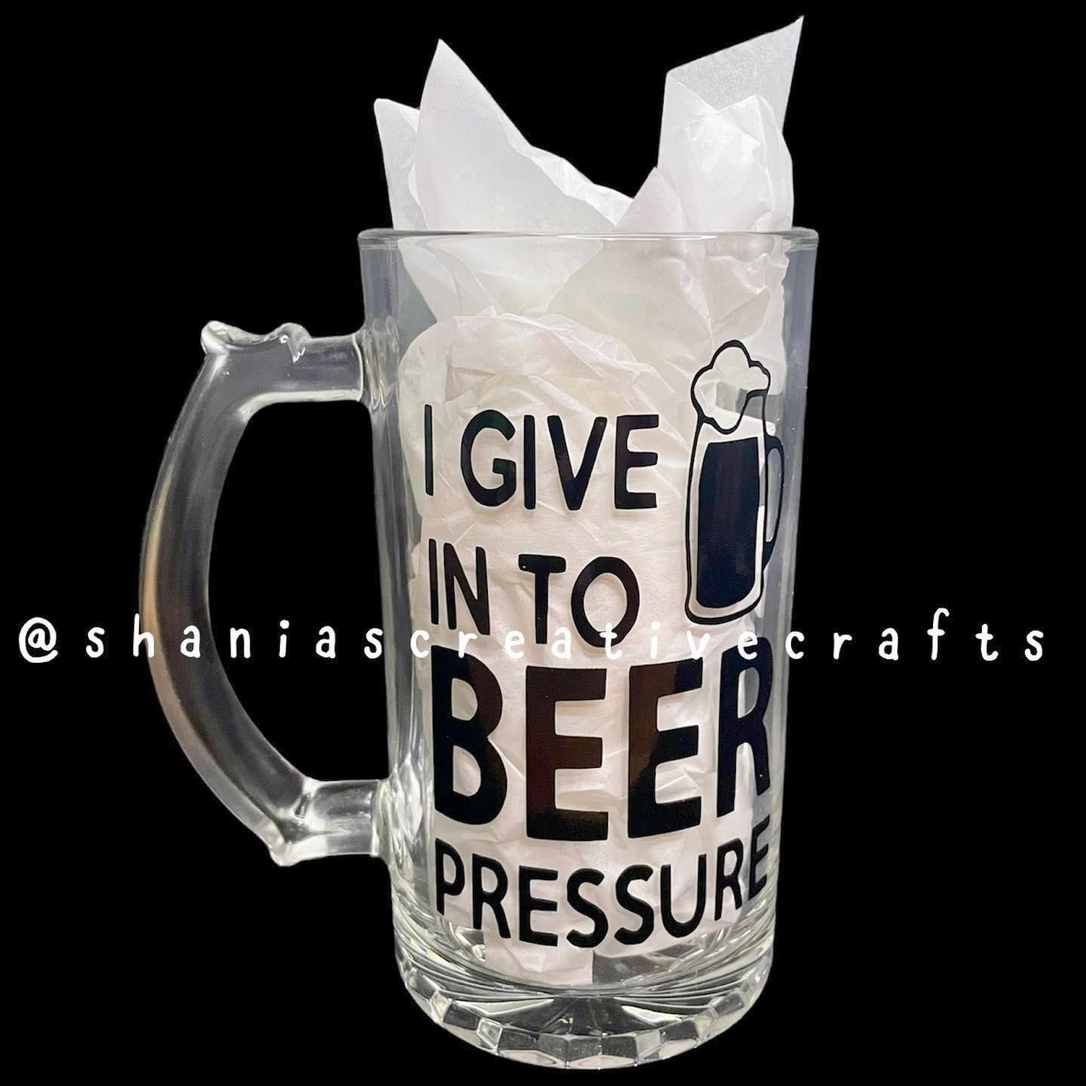glass-mug: (132, 215, 834, 1076)
